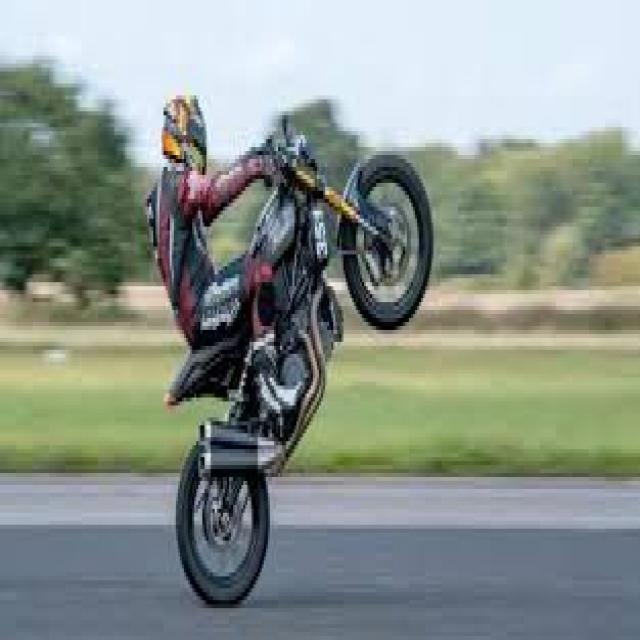Wheeling: (127, 0, 454, 572)
